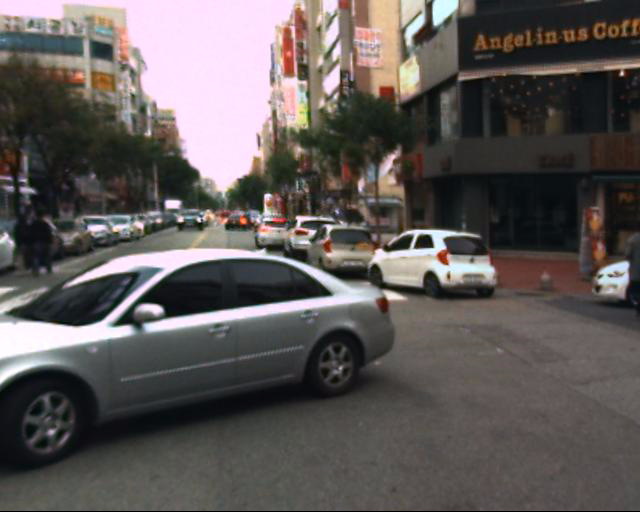person: (21, 202, 68, 282), (10, 201, 51, 281)
